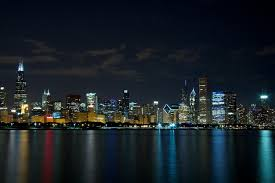willis: (12, 53, 30, 114)
